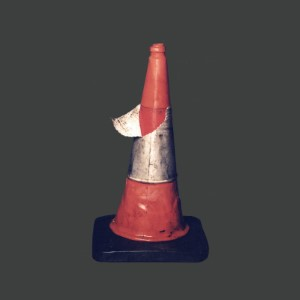traffic cone: (92, 42, 208, 262)
